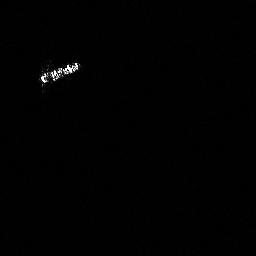ship: (39, 62, 78, 84)
